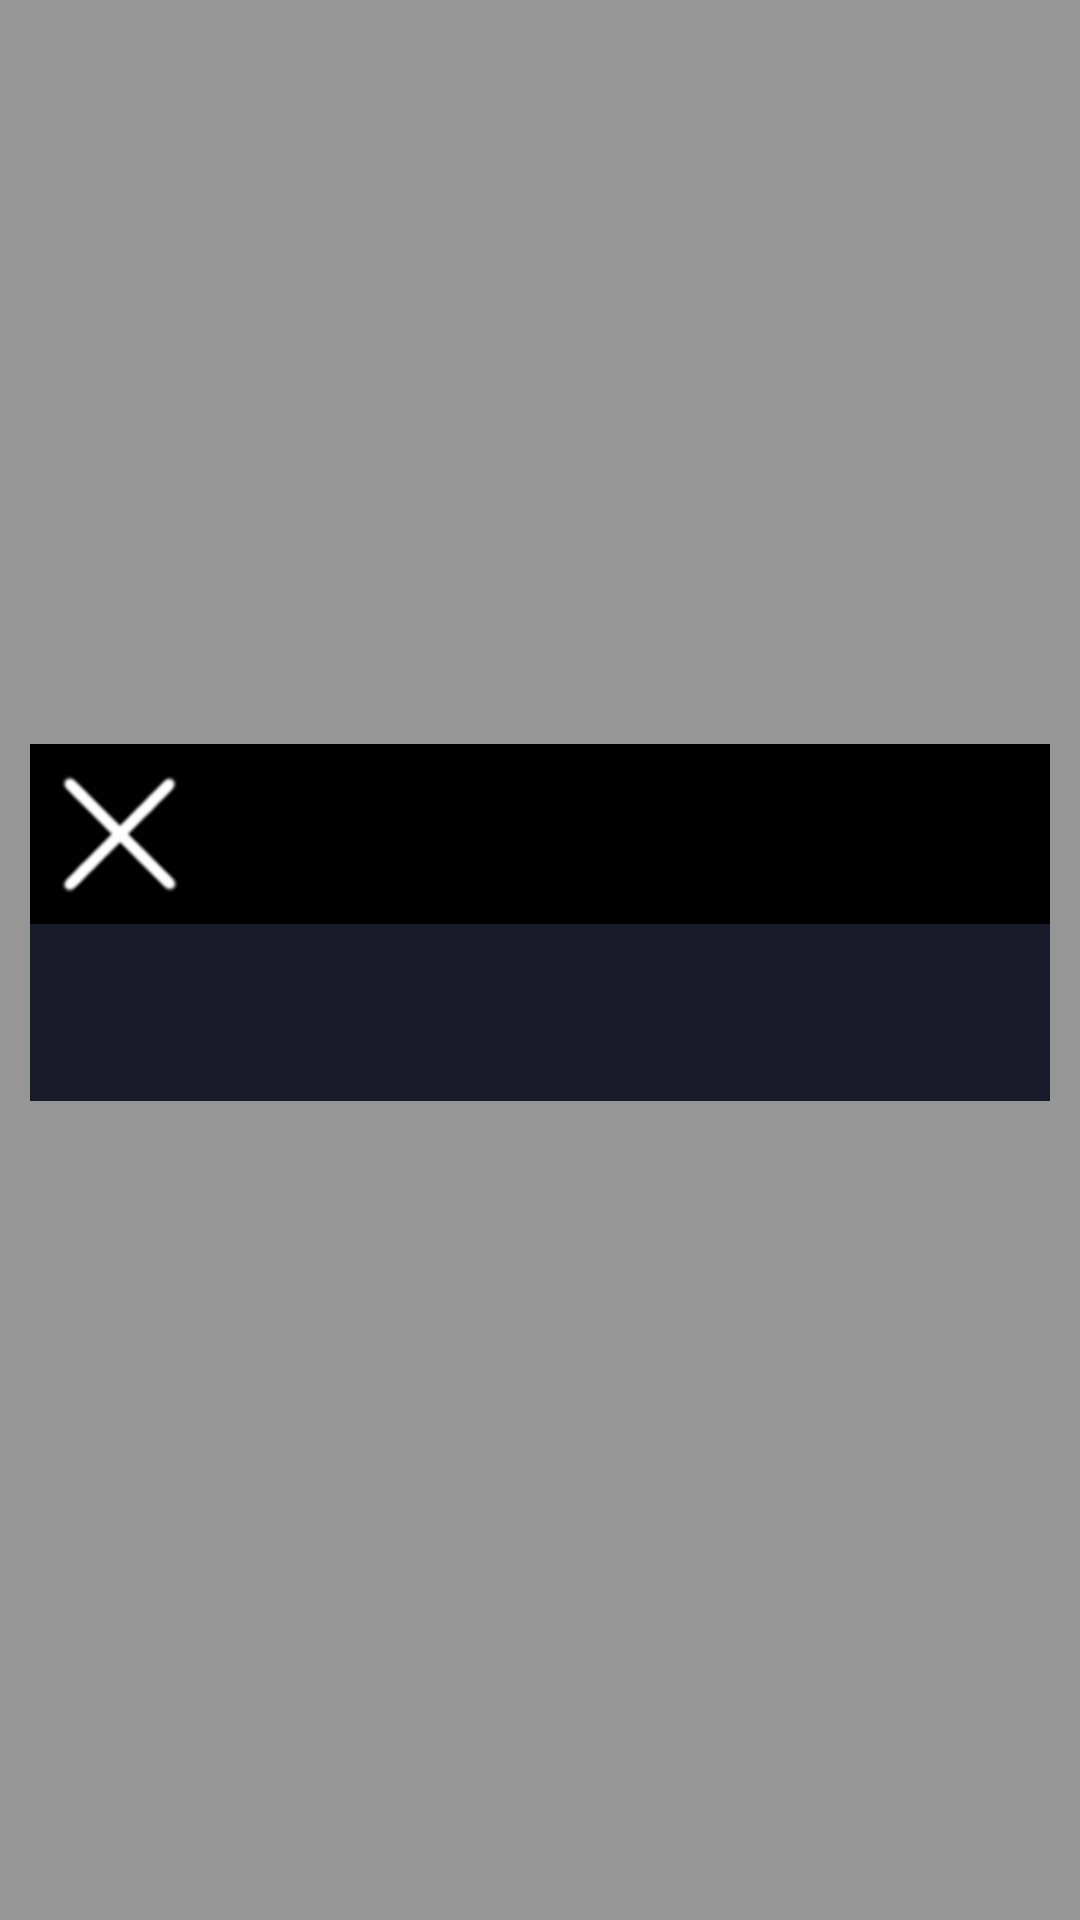

Named icons in this screenshot (1080 × 1920) and their centers, (x,y):
close mark: (119,834)
